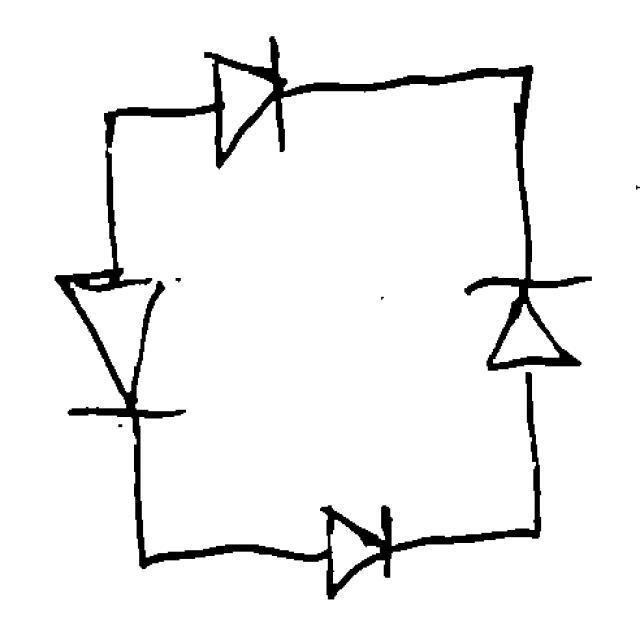diode: (45, 253, 201, 447), (459, 256, 604, 398), (186, 34, 307, 180), (300, 491, 409, 615)
